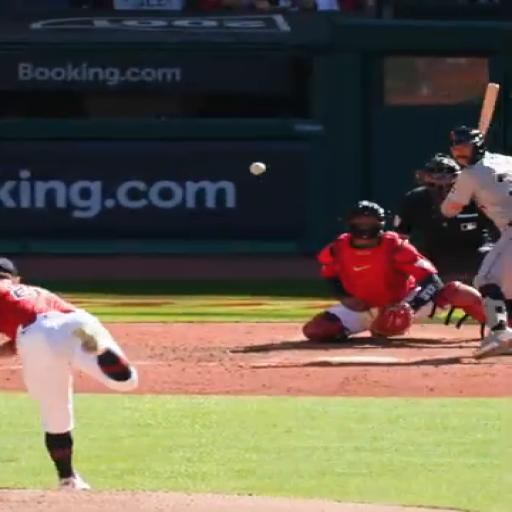bat: (478, 84, 500, 135)
